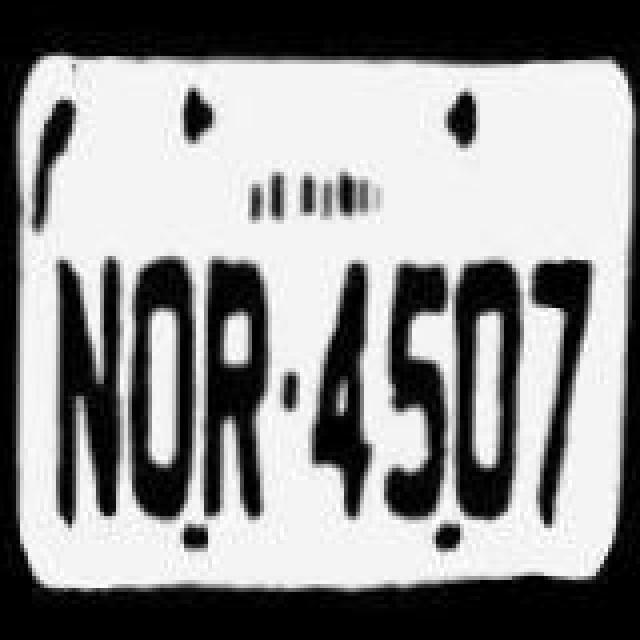4: (298, 248, 374, 524)
5: (378, 250, 454, 526)
7: (520, 226, 600, 542)
N: (48, 250, 128, 526)
O: (122, 250, 198, 522), (448, 248, 520, 528)
R: (192, 252, 280, 524)
